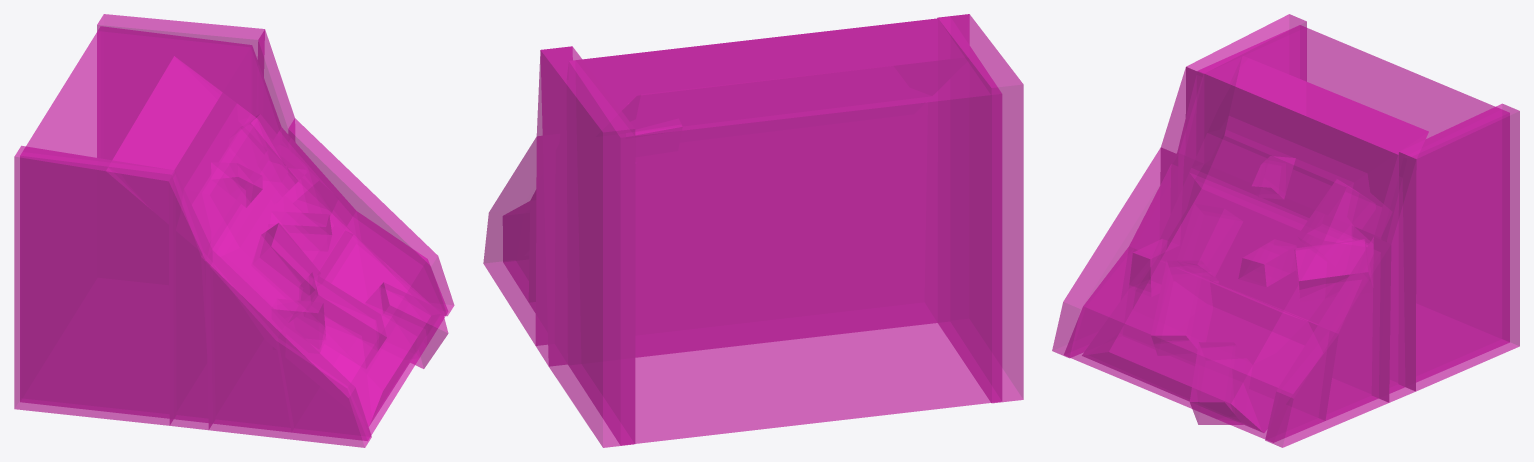
The model's file is SM_Bld_45_Wall_L_Damaged_01_Collision.fbx.
The picture shows the model from 3 angles, left to right: view 1: azimuth 30°, elevation 25°; view 2: azimuth 150°, elevation 25°; view 3: azimuth 270°, elevation 25°; orthographic projection. The views are drawn at different scales.
Parts seen in each view (by area): view 1: SM_Bld_45_Wall_L_Damaged_01_Collision; view 2: SM_Bld_45_Wall_L_Damaged_01_Collision; view 3: SM_Bld_45_Wall_L_Damaged_01_Collision.
Part boxes in pixels (x1,y1,x2,y2): SM_Bld_45_Wall_L_Damaged_01_Collision: (14, 14, 454, 447); SM_Bld_45_Wall_L_Damaged_01_Collision: (483, 14, 1023, 447); SM_Bld_45_Wall_L_Damaged_01_Collision: (1052, 14, 1519, 447).
Bounding box in the file's own units: 1130 × 656 × 1126.
